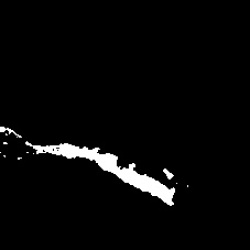crack: (0, 127, 176, 206)
